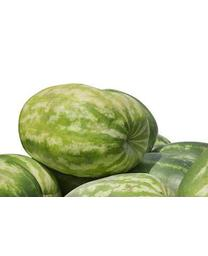watermelon: (19, 81, 160, 177)
